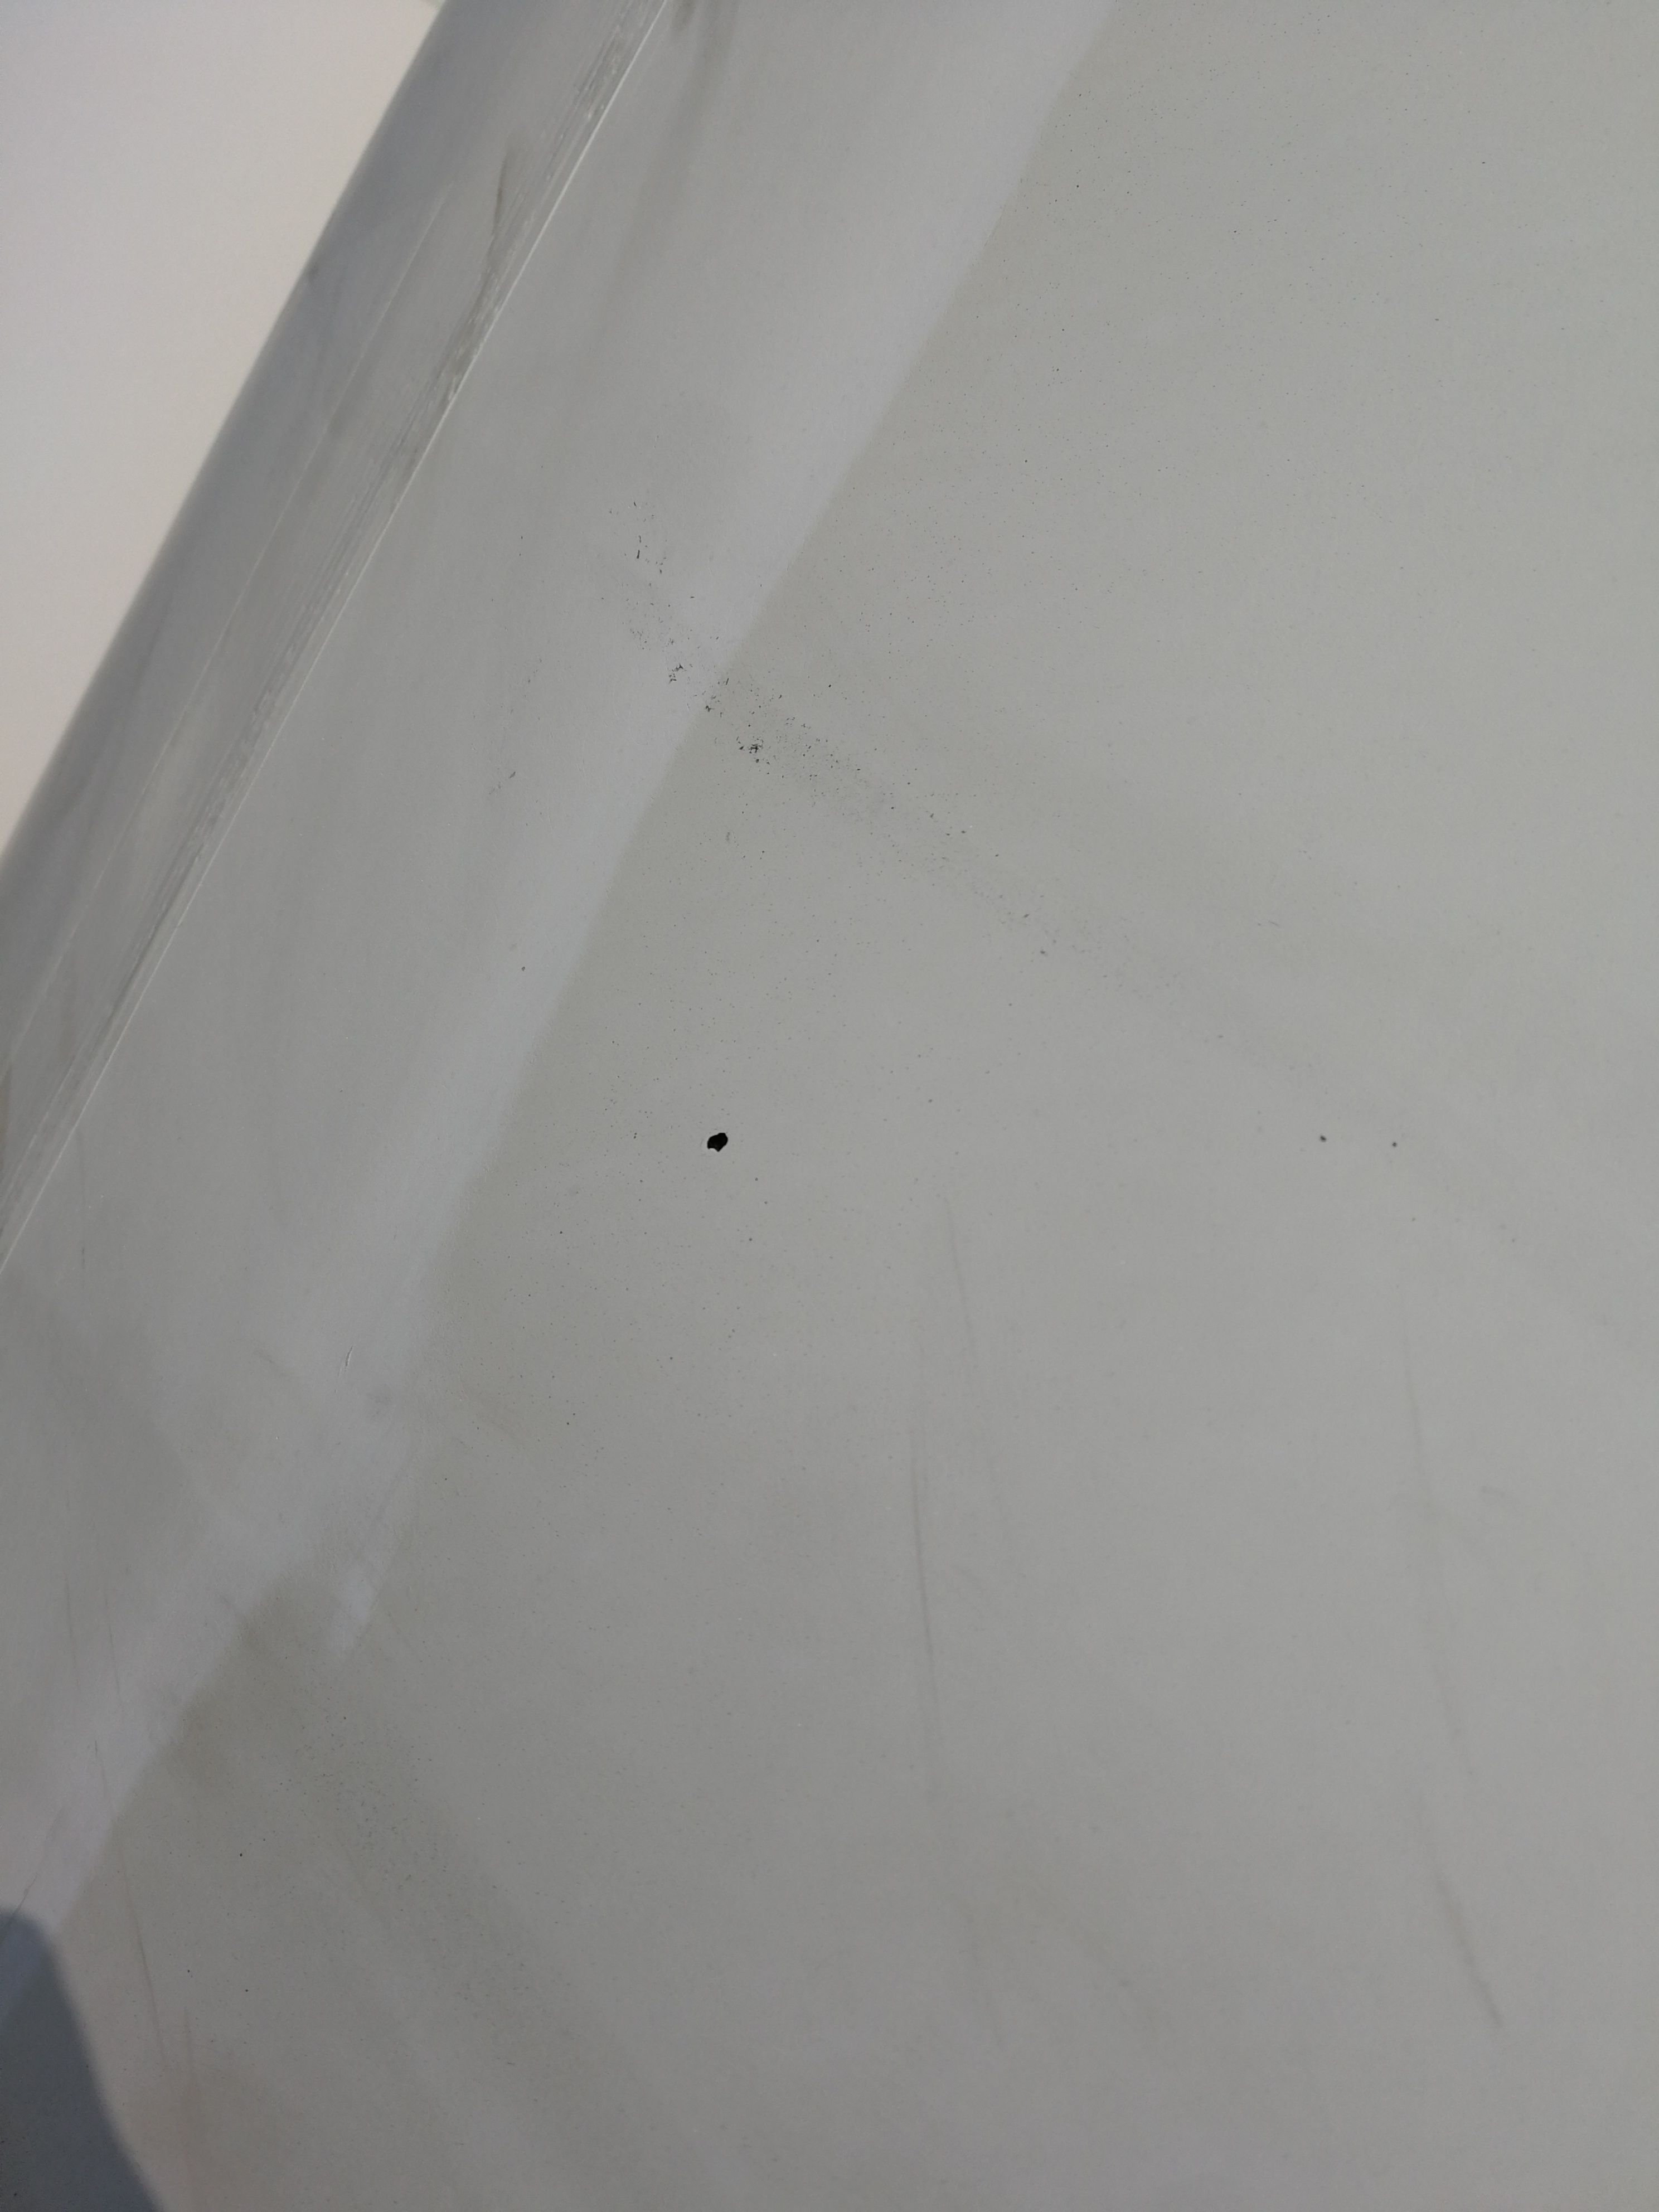SD: (695, 1116, 735, 1158)
